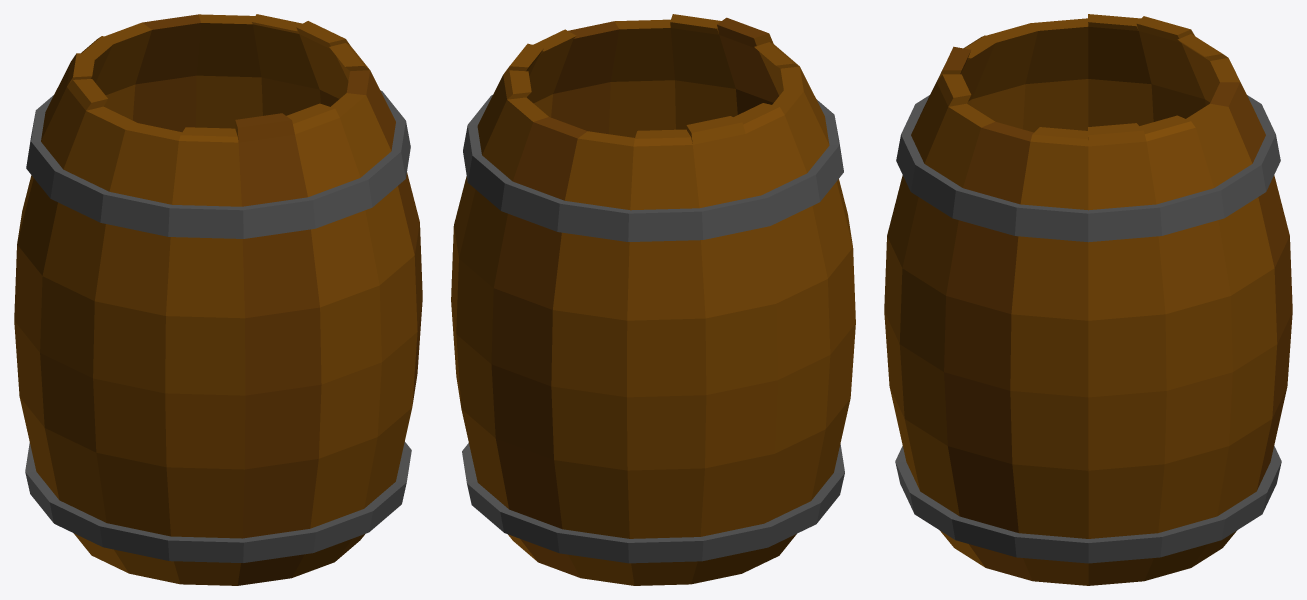
The model's file is barrel.fbx.
3 renders of one model, left to right at view 1: azimuth 30°, elevation 25°; view 2: azimuth 150°, elevation 25°; view 3: azimuth 270°, elevation 25°, orthographic.
Parts seen in each view (by area): view 1: Cylinder; view 2: Cylinder; view 3: Cylinder.
Boxes of the visible parts, box(x1,y1,x2,y2) form: Cylinder: box(14, 14, 422, 585); Cylinder: box(451, 14, 855, 585); Cylinder: box(884, 14, 1292, 585).
Bounding box in the file's own units: 301 × 369 × 301.
